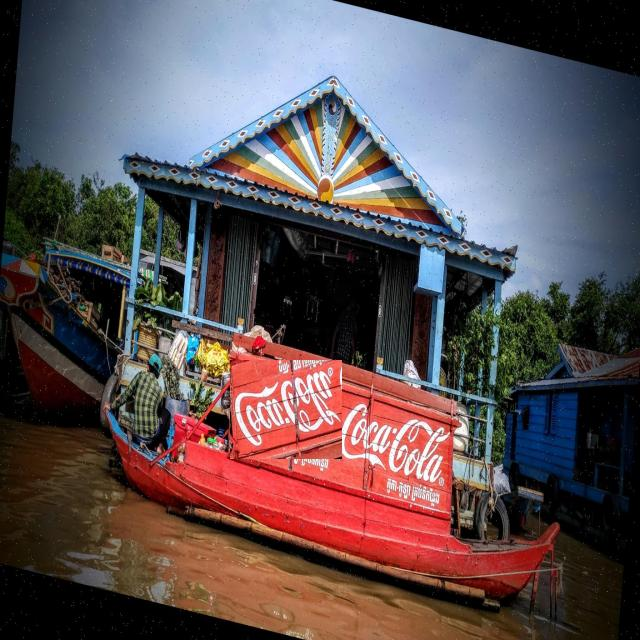coca-cola: (337, 389, 453, 496), (230, 360, 342, 459)
